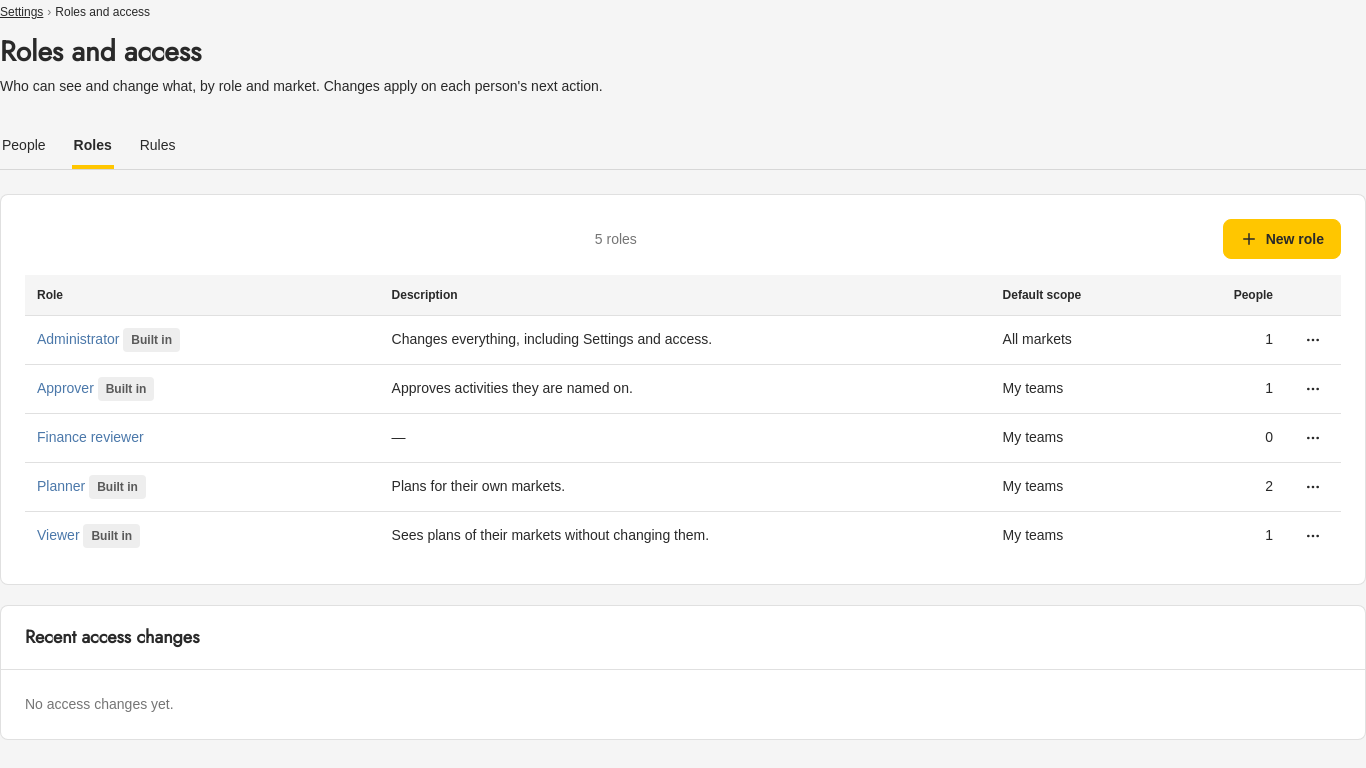
Test case: AccessPage: Roles tab (feature 014, US4) › deletes an unused role with Undo (US4-5)
Step 1. Click the button named "Actions for Finance reviewer" → (1313, 438), box [1297,422,1329,454]
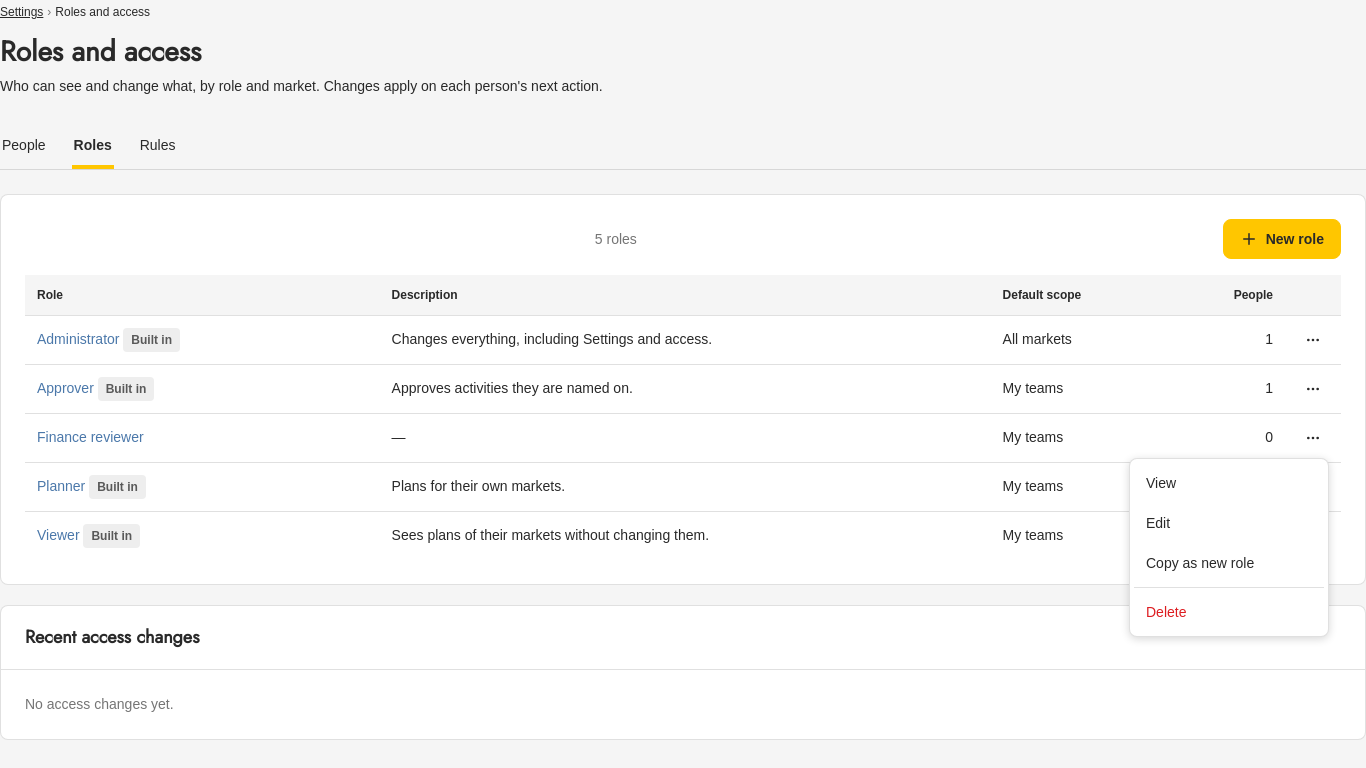
Step 2. Click the menu item "Delete" → (1166, 612), box [1146,604,1186,620]
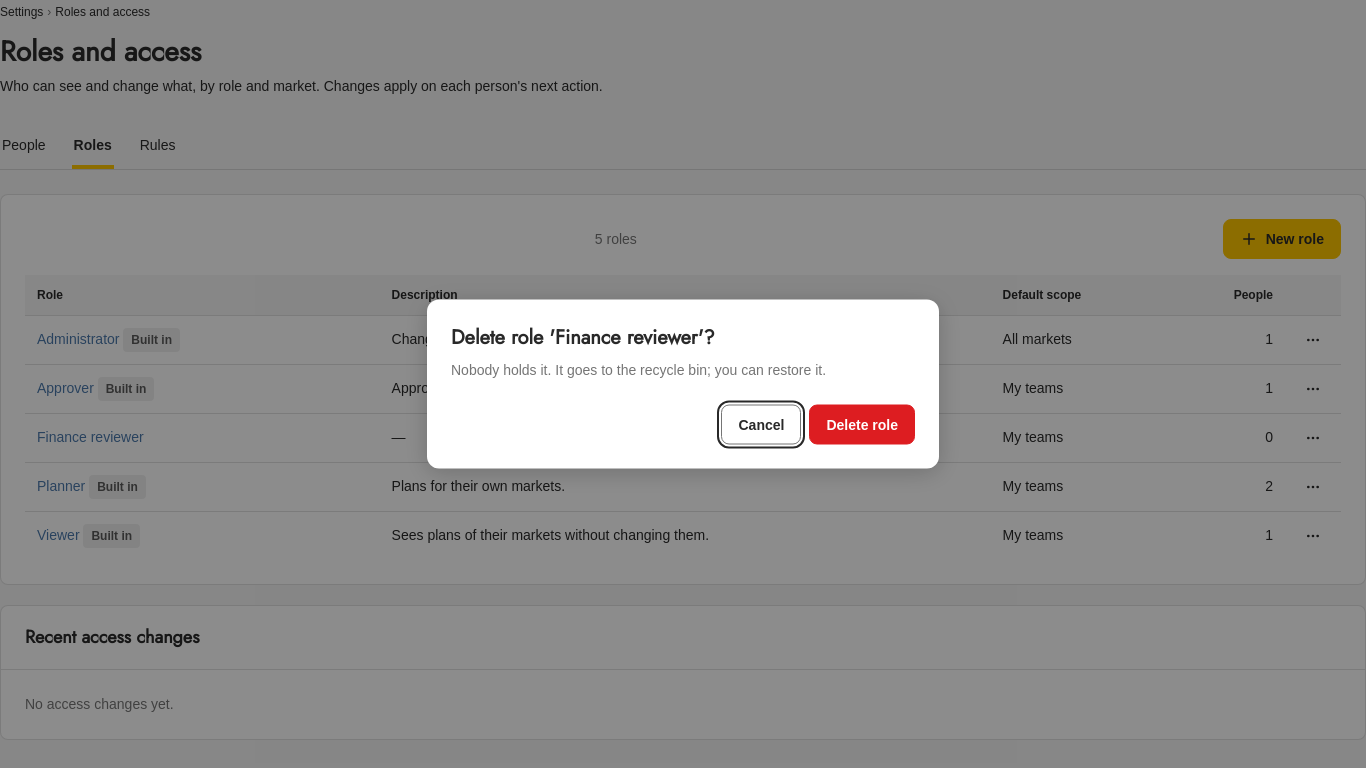
Step 3. Click the button "Delete role" → (862, 424), box [809,404,915,444]
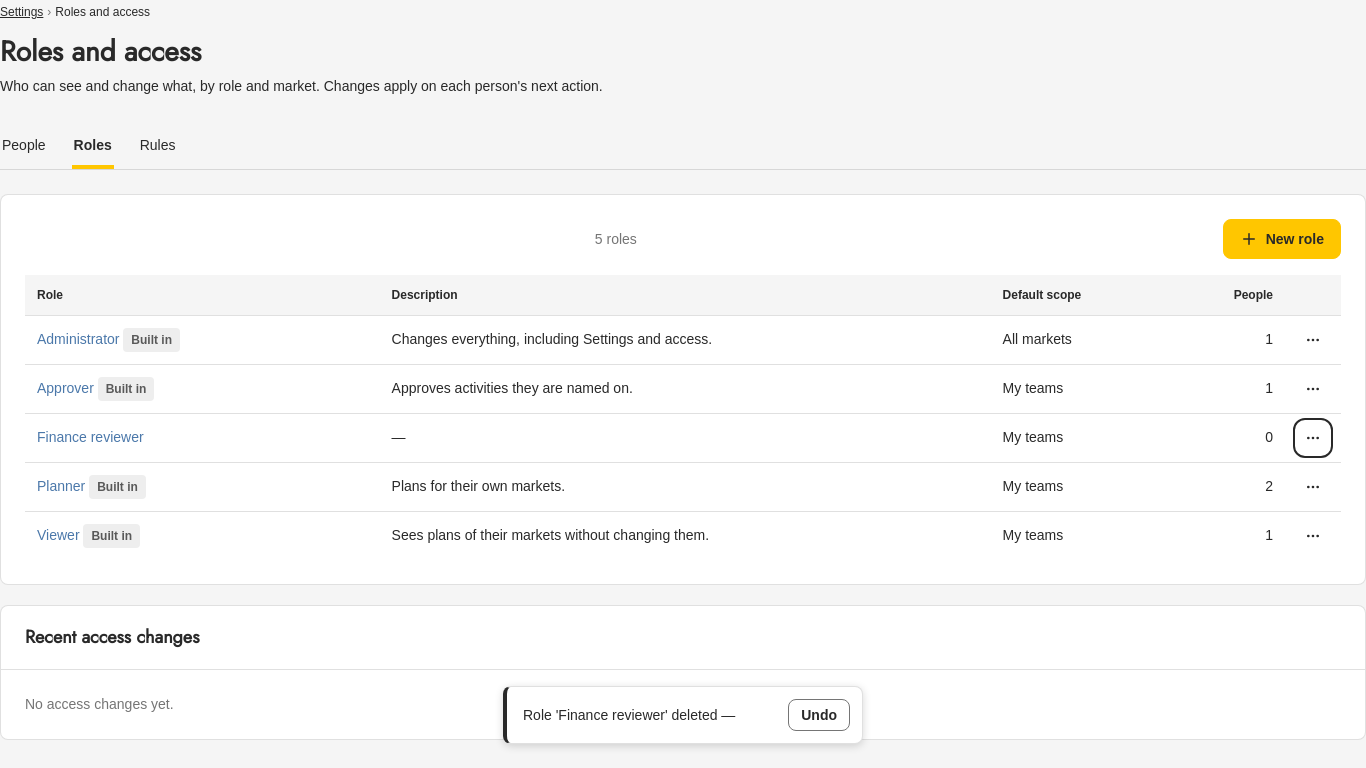
expect the text "Role 'Finance reviewer' deleted" is shown: met, box [523,706,721,722]
Step 4. Click the button "Undo" → (819, 715), box [788,699,850,731]
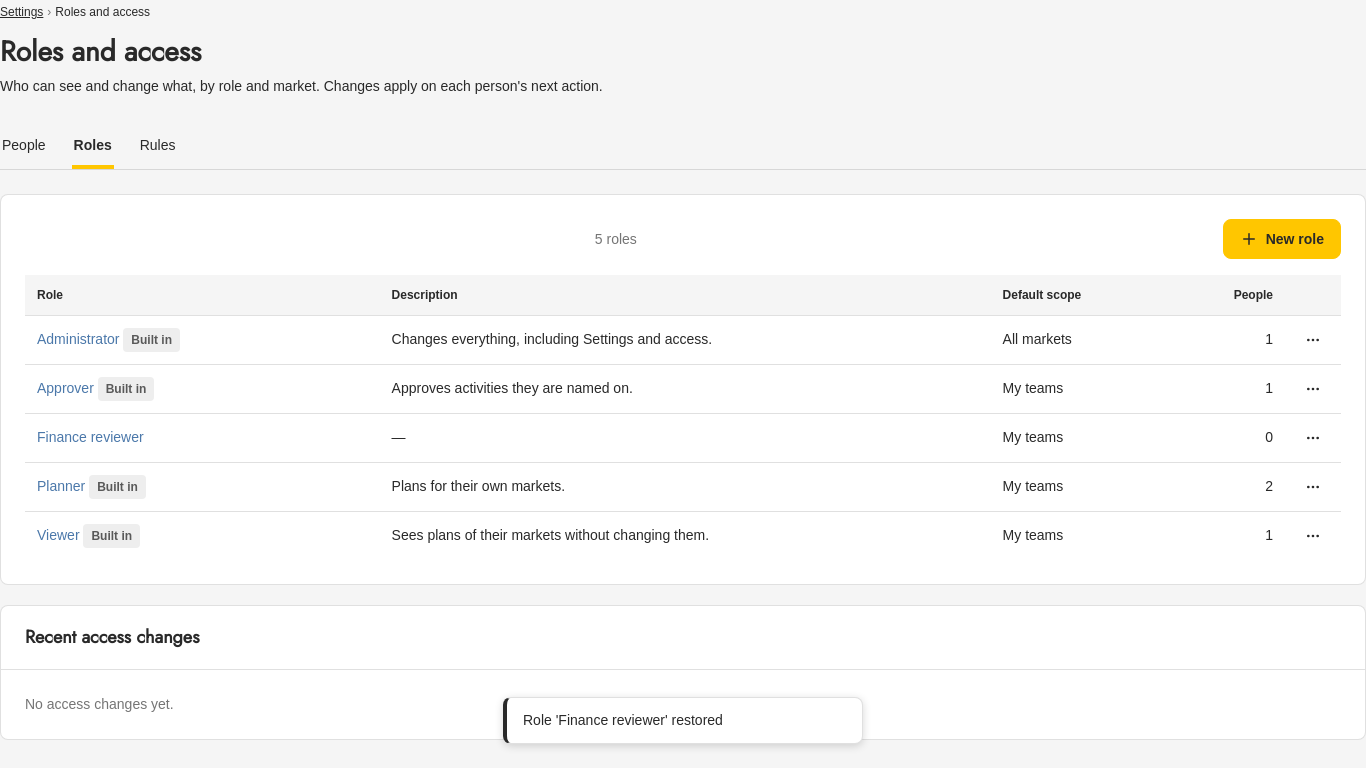
expect the text "Role 'Finance reviewer' restored" is shown: met, box [523,712,723,728]
